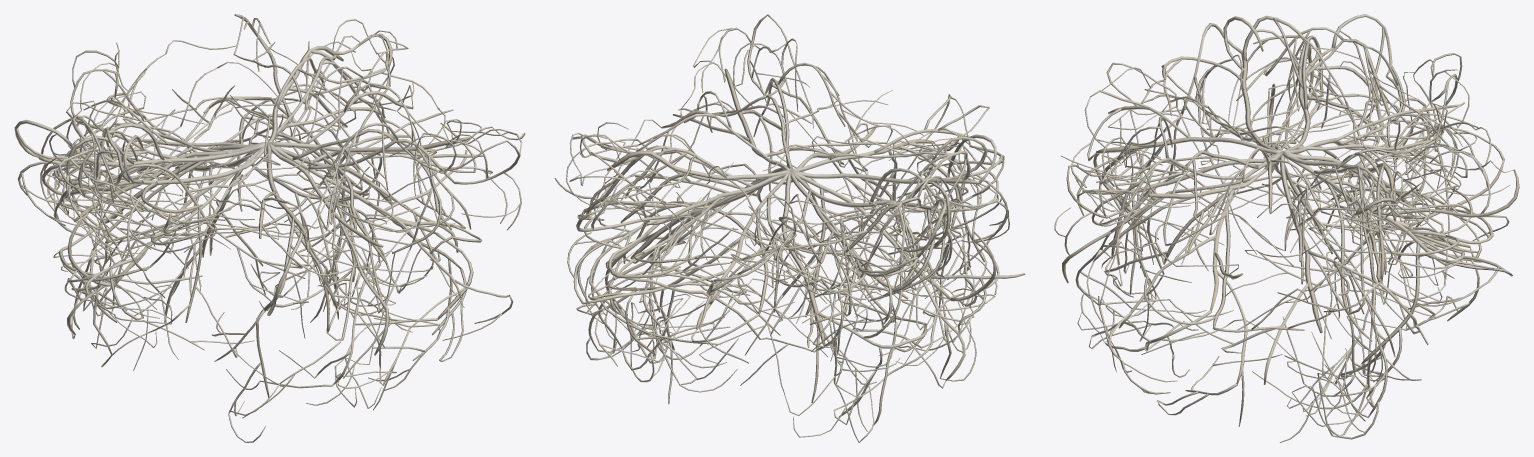
File: fungus-threads.glb
3 renders of one model, left to right at view 1: azimuth 30°, elevation 25°; view 2: azimuth 150°, elevation 25°; view 3: azimuth 270°, elevation 25°, orthographic. The views are drawn at different scales.
Visible parts, largest first — view 1: fungus-threads; view 2: fungus-threads; view 3: fungus-threads.
Part boxes in pixels (<box>): fungus-threads: <box>14,14,525,442</box>; fungus-threads: <box>554,14,1025,442</box>; fungus-threads: <box>1054,14,1519,442</box>.
Size of the model in its own units: 1.52 by 0.9844 by 1.45.
